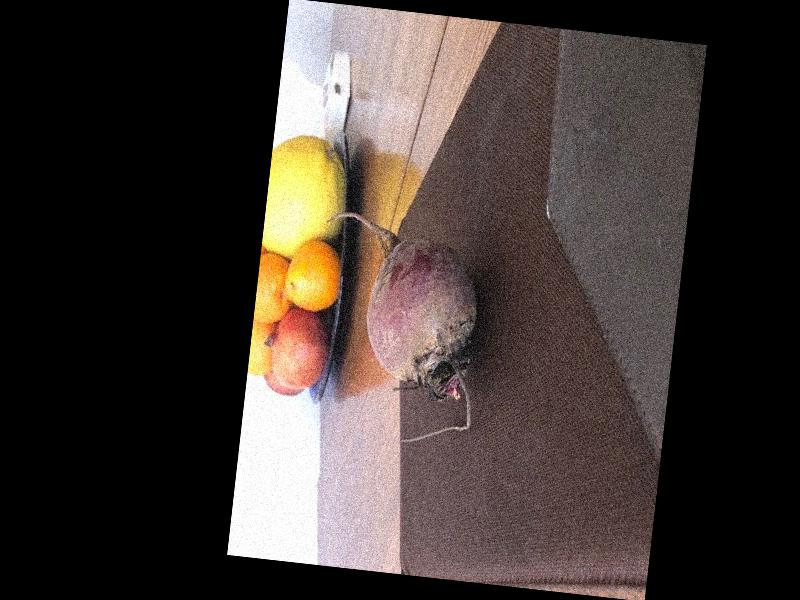Beet: (302, 208, 492, 450)
